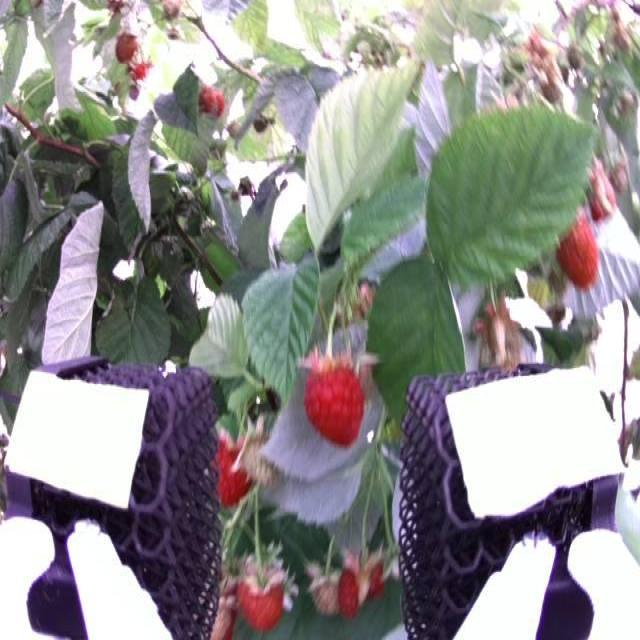Riped berries: (304, 358, 369, 451), (555, 212, 603, 291), (214, 432, 263, 509), (236, 557, 288, 625), (338, 555, 387, 614)
